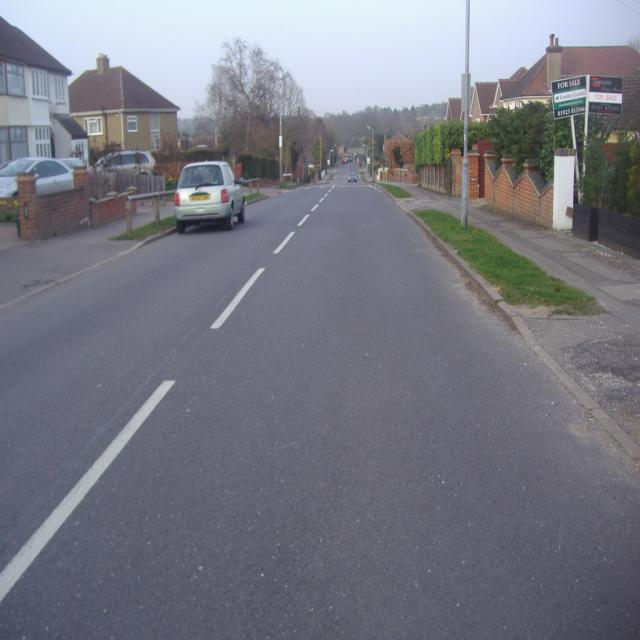car: (173, 164, 244, 235), (342, 156, 350, 163), (348, 174, 356, 179)
